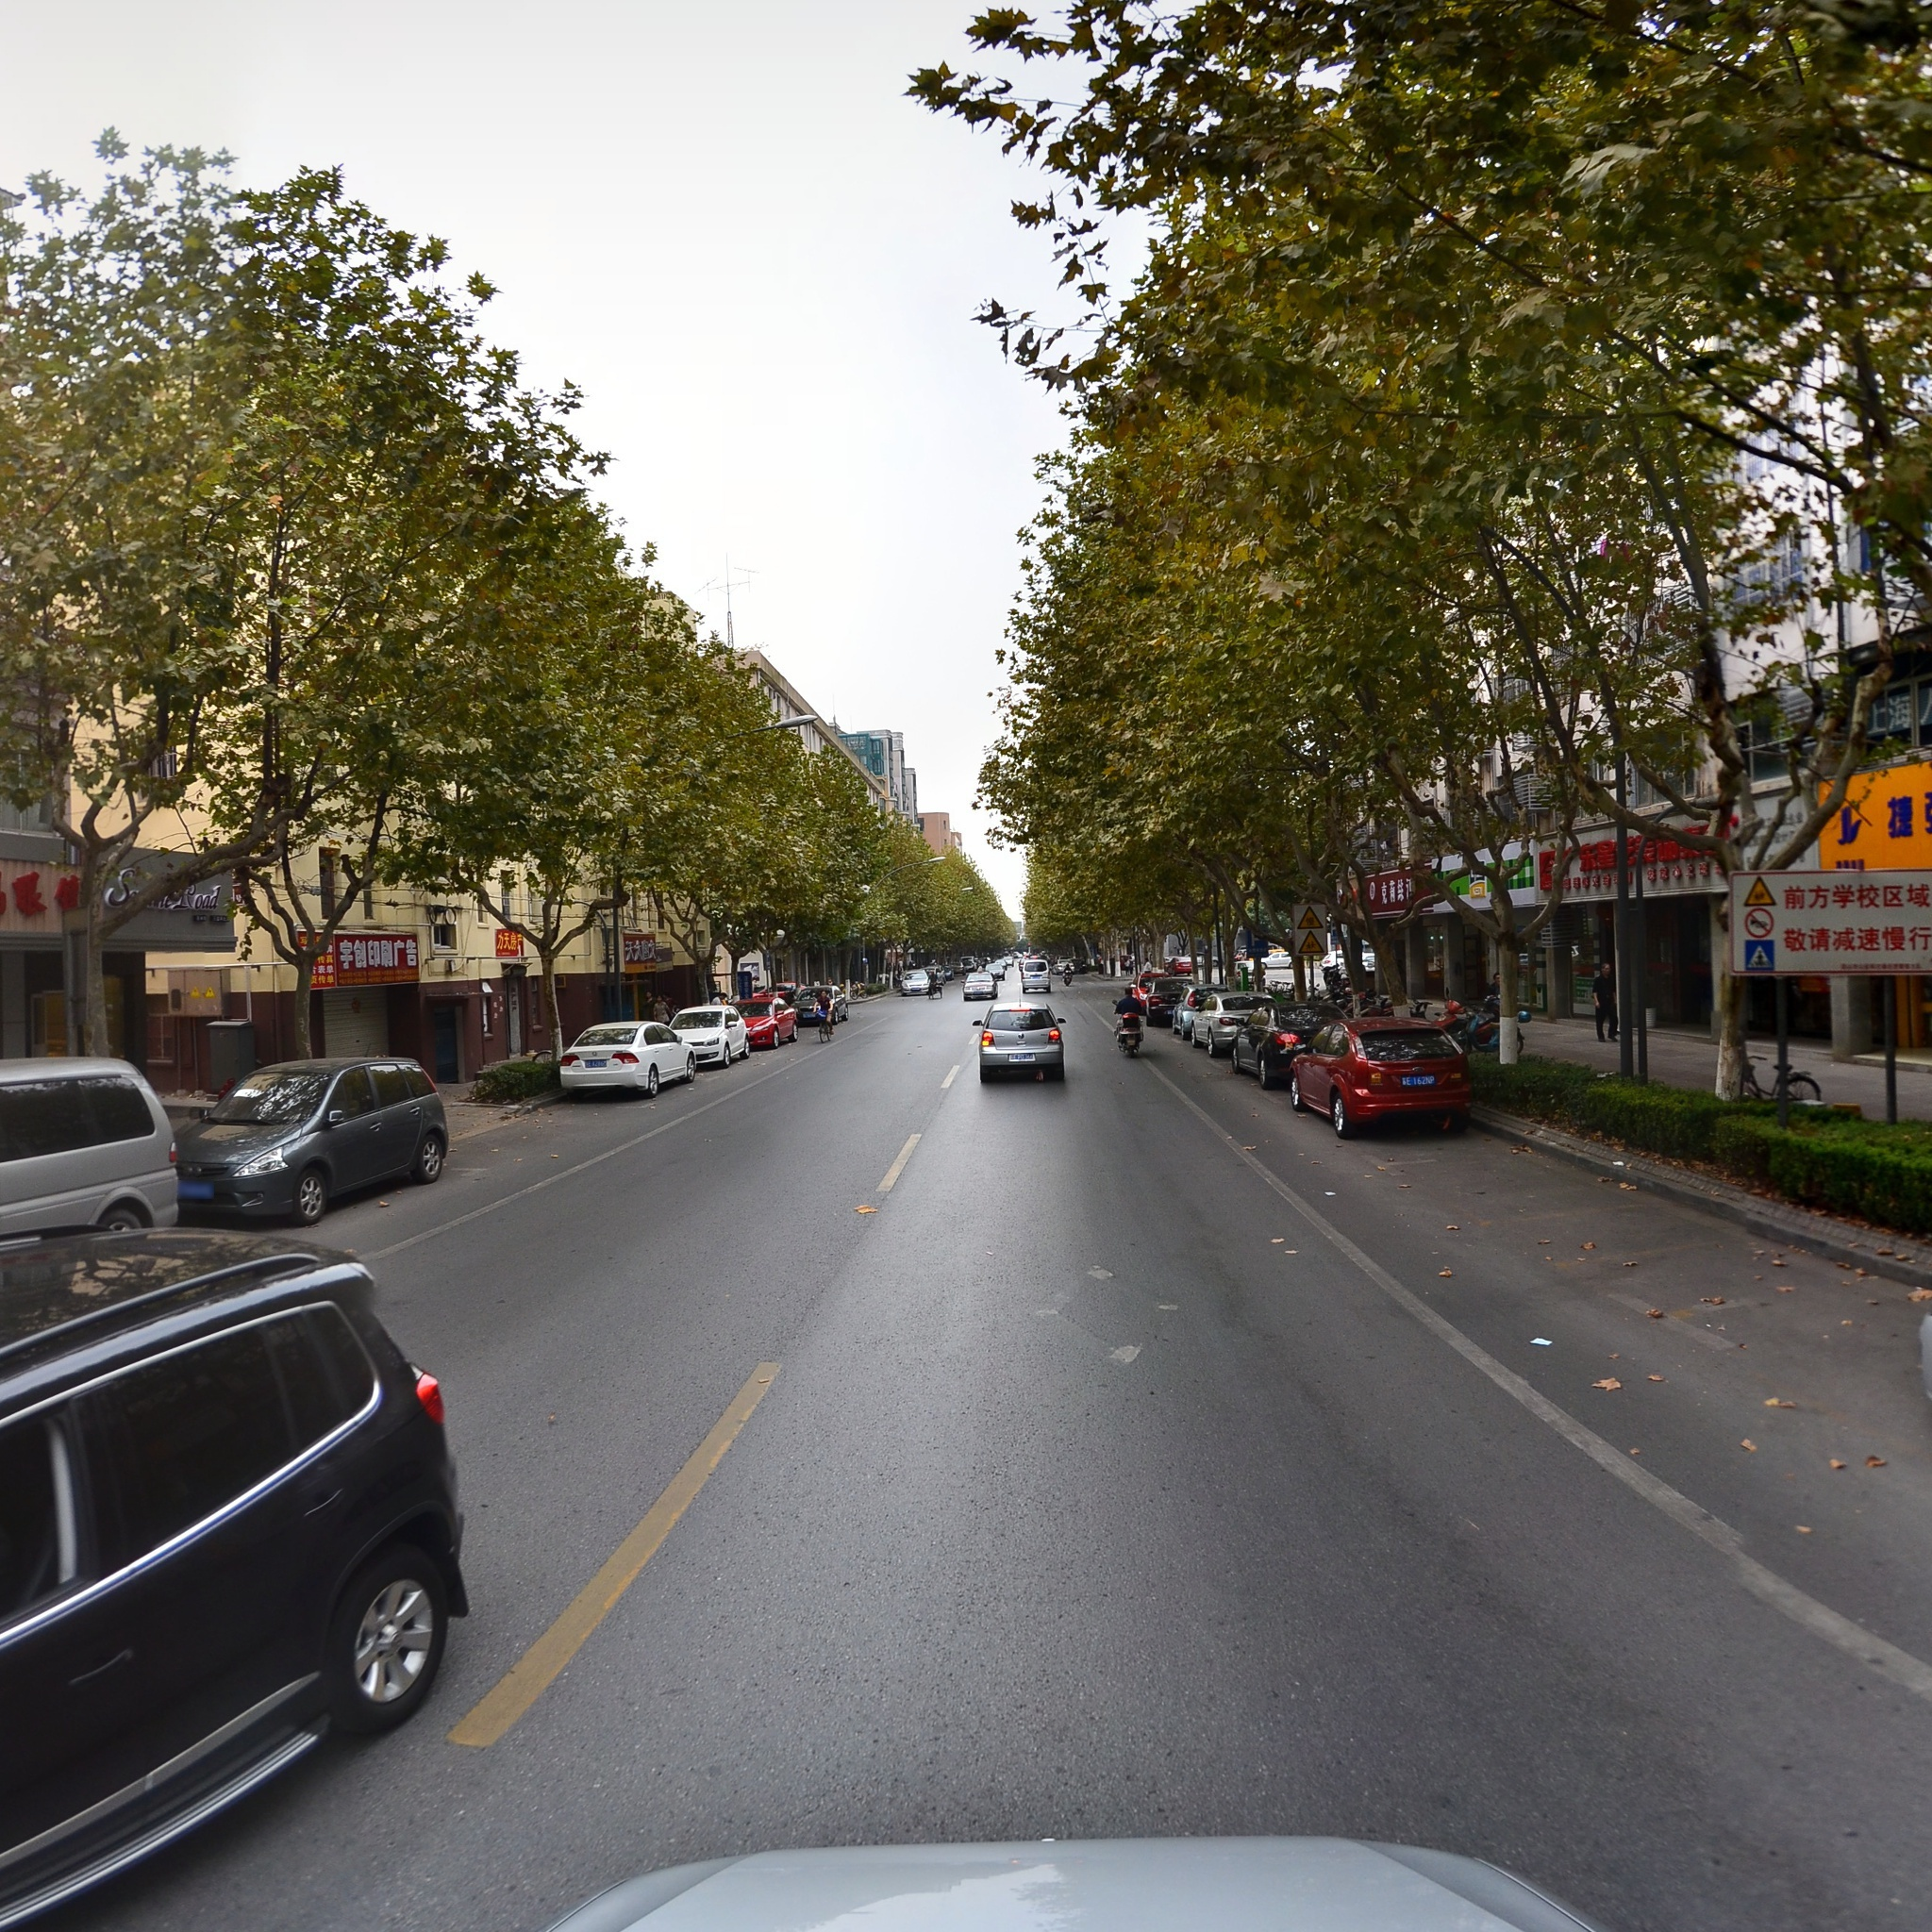ip: (1746, 941, 1775, 971)
p11: (1744, 908, 1775, 939)
w30: (1297, 906, 1325, 931)
w55: (1744, 876, 1778, 906), (1299, 931, 1325, 954)
